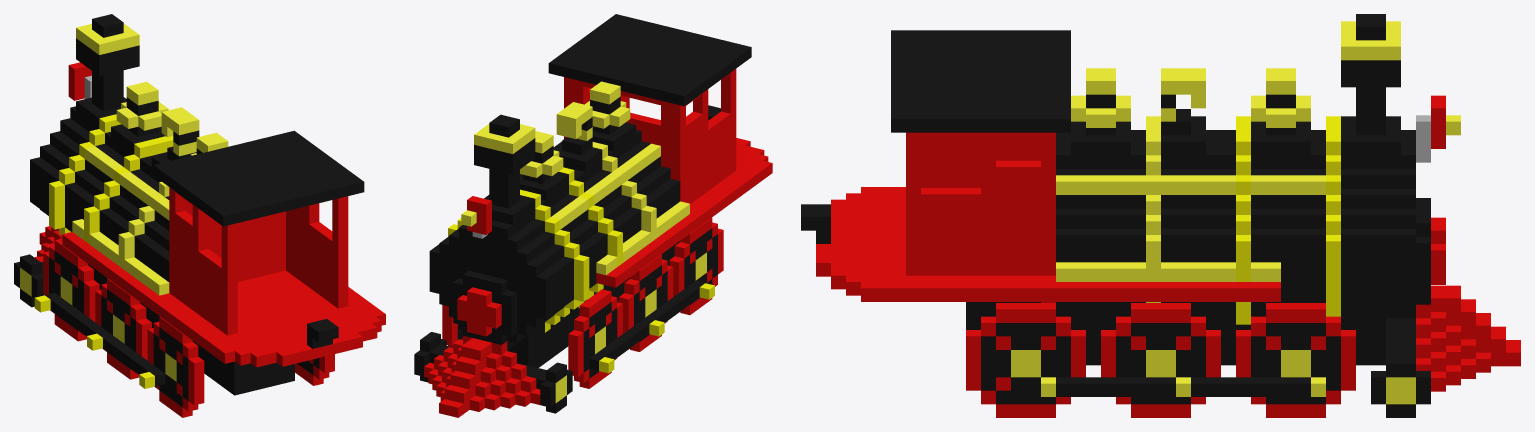
File: train.obj
The picture shows the model from 3 angles, left to right: view 1: azimuth 30°, elevation 25°; view 2: azimuth 150°, elevation 25°; view 3: azimuth 270°, elevation 25°; orthographic projection. The views are drawn at different scales.
Bounding box in the file's own units: 17 × 26 × 48.
1 material, 1 textured.
